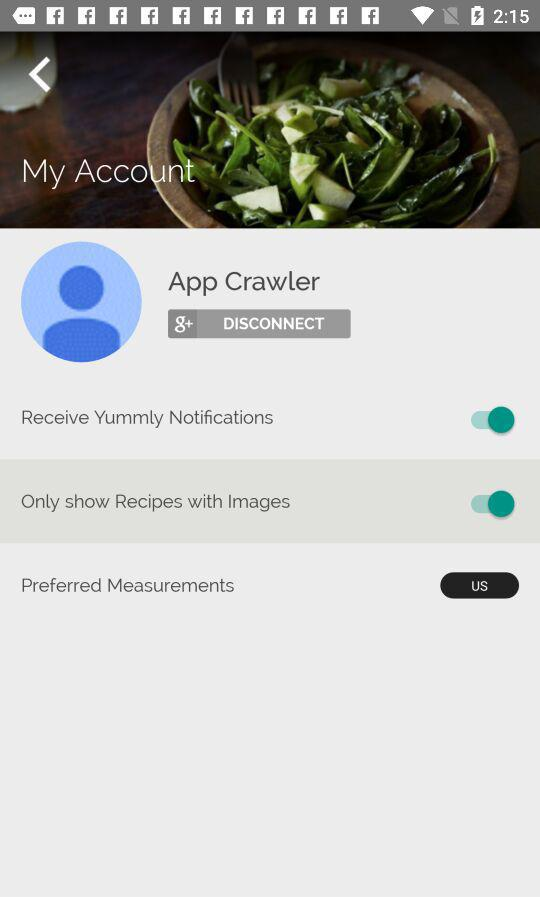Icon: (21, 241, 143, 364), (28, 57, 53, 95)
Switch: (471, 490, 515, 519), (471, 406, 515, 435)
Text: (1, 33, 539, 230), (24, 159, 196, 191), (22, 493, 291, 513), (22, 409, 274, 429), (168, 271, 321, 298), (22, 577, 235, 593)
TextButton: (168, 309, 352, 339), (440, 572, 520, 600)
UpperTaskBar: (1, 1, 540, 33)
